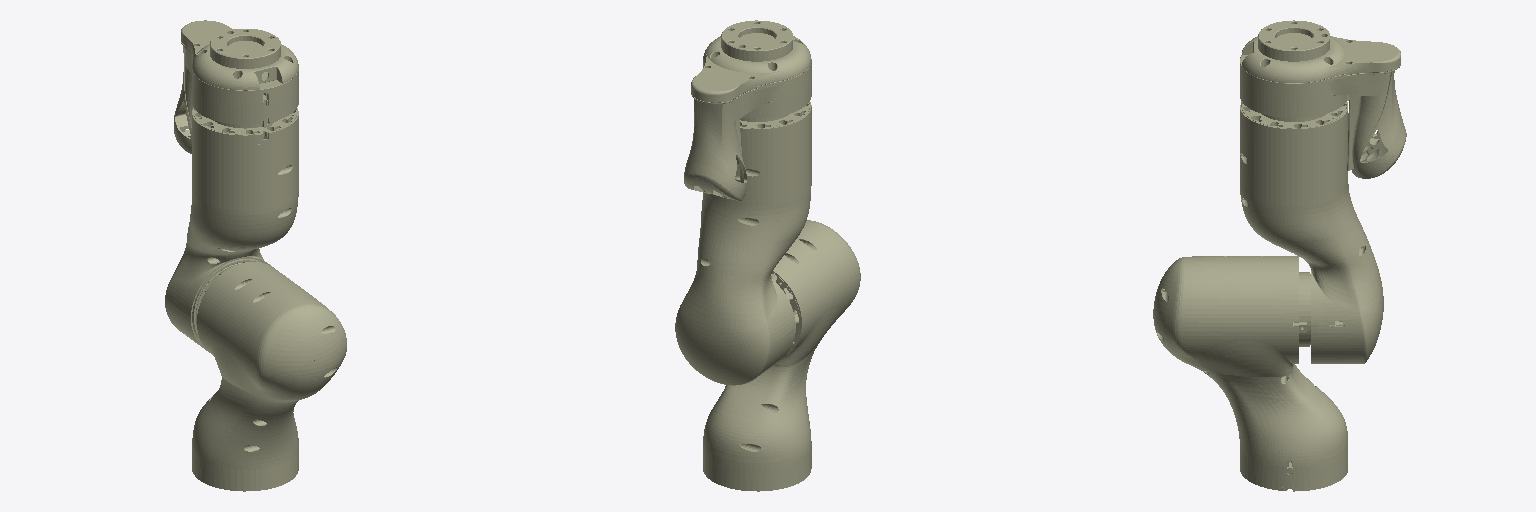
robot.urdf — xmate3:
<?xml version="1.0" ?>
<!-- =================================================================================== -->
<!-- |    This document was autogenerated by xacro from xmate3.xacro                      | -->
<!-- |    EDITING THIS FILE BY HAND IS NOT RECOMMENDED                                 | -->
<!-- =================================================================================== -->
<!-- xmate3 manipulator -->
<!--  Attention!!! inertia in the model is not correct!!! -->
<robot name="xmate3" xmlns:xacro="http://www.ros.org/wiki/xacro">
  <!-- Constants for robot dimensions -->
  <!-- Import all Gazebo-customization elements, including Gazebo colors -->
  <!--xacro:include filename="$(find XB06_description)/urdf/XB06.gazebo" /-->
  <!-- Import Rviz colors -->
  <material name="black">
    <color rgba="0.0 0.0 0.0 1.0"/>
  </material>
  <material name="blue">
    <color rgba="0.0 0.0 0.8 1.0"/>
  </material>
  <material name="green">
    <color rgba="0.0 0.8 0.0 1.0"/>
  </material>
  <material name="grey">
    <color rgba="0.7 0.7 0.6 1.0"/>
  </material>
  <material name="orange">
    <color rgba="1.0 0.423529411765 0.0392156862745 1.0"/>
  </material>
  <material name="brown">
    <color rgba="0.870588235294 0.811764705882 0.764705882353 1.0"/>
  </material>
  <material name="red">
    <color rgba="0.8 0.0 0.0 1.0"/>
  </material>
  <material name="white">
    <color rgba="1.0 1.0 1.0 1.0"/>
  </material>
  <material name="Beige">
    <color rgba="1.0 0.784 0.5765 1.0"/>
  </material>
  <!-- Used for fixing robot to Gazebo 'base_link' -->
  <link name="world"/>
  <joint name="fixed" type="fixed">
    <parent link="world"/>
    <child link="xmate3_base"/>
  </joint>
  <!--base-->
  <link name="xmate3_base">
    <visual>
      <geometry>
        <mesh filename="meshes/visual/xmate3_base.stl" scale="0.001 0.001 0.001"/>
      </geometry>
      <origin rpy="0 0 0" xyz="0 0 0"/>
      <material name="grey"/>
    </visual>
    <inertial>
      <mass value="5.48267"/>
      <inertia ixx="0.056" ixy="0" ixz="0" iyy="0.066" iyz="0" izz="0.035"/>
      <origin rpy="0 0 0" xyz="-0.0183 0 0.067"/>
    </inertial>
    <!-- <collision>
      <geometry>
        <mesh filename="meshes/collision/xmate3_base.stl" scale="0.001 0.001 0.001"/>
      </geometry>
      <origin rpy="0 0 0" xyz="0.0 0.0 0.0"/>
    </collision> -->
  </link>
  <joint name="joint1" type="fixed">
    <parent link="xmate3_base"/>
    <child link="xmate3_link1"/>
    <!-- <limit effort="300" lower="-3.0527" upper="3.0527" velocity="10"/>
    <axis xyz="0 0 1"/> -->
    <origin rpy="0 0 0" xyz="0 0 0"/>
  </joint>
  <transmission name="tran1">
    <type>transmission_interface/SimpleTransmission</type>
    <joint name="joint1">
      <hardwareInterface>EffortJointInterface</hardwareInterface>
    </joint>
    <actuator name="motor1">
      <hardwareInterface>EffortJointInterface</hardwareInterface>
      <mechanicalReduction>1</mechanicalReduction>
    </actuator>
  </transmission>
  <!--link 1-->
  <link name="xmate3_link1">
    <visual>
      <geometry>
        <mesh filename="meshes/visual/xmate3_link1.stl" scale="0.001 0.001 0.001"/>
      </geometry>
      <origin rpy="0 0 0" xyz="0 0 0"/>
      <material name="grey"/>
    </visual>
    <inertial>
      <mass value="3.37289"/>
      <inertia ixx="0.314" ixy="0" ixz="0" iyy="0.310" iyz="0" izz="0.01"/>
      <origin rpy="0 0 0" xyz="0 -0.023 0.295"/>
    </inertial>
    <!-- <collision>
      <geometry>
        <mesh filename="meshes/collision/xmate3_link1.stl" scale="0.001 0.001 0.001"/>
      </geometry>
      <origin rpy="0 0 0" xyz="0 0 0"/>
    </collision> -->
  </link>
  <joint name="joint2" type="fixed">
    <parent link="xmate3_link1"/>
    <child link="xmate3_link2"/>
    <!-- <limit effort="300" lower="-2.0933" upper="2.0933" velocity="10"/>
    <axis xyz="0 1 0"/> -->
    <origin rpy="0 0 0" xyz="0 0 0.34260487"/>
  </joint>
  <transmission name="tran2">
    <type>transmission_interface/SimpleTransmission</type>
    <joint name="joint2">
      <hardwareInterface>EffortJointInterface</hardwareInterface>
    </joint>
    <actuator name="motor2">
      <hardwareInterface>EffortJointInterface</hardwareInterface>
      <mechanicalReduction>1</mechanicalReduction>
    </actuator>
  </transmission>
  <!--link 2-->
  <link name="xmate3_link2">
    <visual>
      <geometry>
        <mesh filename="meshes/visual/xmate3_link2.stl" scale="0.001 0.001 0.001"/>
      </geometry>
      <origin rpy="0 0 0" xyz="0 0 0.0"/>
      <material name="grey"/>
    </visual>
    <inertial>
      <mass value="3.74765"/>
      <inertia ixx="0.074" ixy="0" ixz="0" iyy="0.067" iyz="0" izz="0.014"/>
      <origin rpy="0 0 0" xyz="0 0.032 0.095"/>
    </inertial>
    <!-- <collision>
      <geometry>
        <mesh filename="meshes/collision/xmate3_link2.stl" scale="0.001 0.001 0.001"/>
      </geometry>
      <origin rpy="0 0 0" xyz="0 0 0.0"/>
    </collision> -->
  </link>
  <joint name="joint3" type="revolute">
    <parent link="xmate3_link2"/>
    <child link="xmate3_link3"/>
    <limit effort="300" lower="-3.0527" upper="3.0527" velocity="10"/>
    <axis xyz="0 0 1"/>
    <origin rpy="0 0 0" xyz="0 0 0.23743878"/>
  </joint>
  <transmission name="tran3">
    <type>transmission_interface/SimpleTransmission</type>
    <joint name="joint3">
      <hardwareInterface>EffortJointInterface</hardwareInterface>
    </joint>
    <actuator name="motor3">
      <hardwareInterface>EffortJointInterface</hardwareInterface>
      <mechanicalReduction>1</mechanicalReduction>
    </actuator>
  </transmission>
  <!--${nameofManipulator}_link 3-->
  <link name="xmate3_link3">
    <visual>
      <geometry>
        <mesh filename="meshes/visual/xmate3_link3.stl" scale="0.001 0.001 0.001"/>
      </geometry>
      <origin rpy="0 0 0" xyz="0 0 0.15549959"/>
      <material name="grey"/>
    </visual>
    <inertial>
      <mass value="3.38216"/>
      <inertia ixx="0.028" ixy="0" ixz="0" iyy="0.025" iyz="0" izz="0.01"/>
      <origin rpy="0 0 0" xyz="0 -0.023 -0.048"/>
    </inertial>
    <!-- <collision>
      <geometry>
        <mesh filename="meshes/visual/xmate3_link3.stl" scale="0.001 0.001 0.001"/>
      </geometry>
      <origin rpy="0 0 0" xyz="0 0 0.15549959"/>
    </collision> -->
  </link>
  <joint name="joint4" type="revolute">
    <parent link="xmate3_link3"/>
    <child link="xmate3_link4"/>
   <limit effort="300" lower="-2.0933" upper="2.0933" velocity="10"/>
<!--     lower="-2.79" upper="2.79" -->
    <axis xyz="0 1 0"/>
<!--     <origin rpy="0 0 0" xyz="0.585 0.0 0.035"/> -->
    <origin rpy="0 0 0" xyz="0 0 0.15549959"/>
  </joint>
  <transmission name="tran4">
    <type>transmission_interface/SimpleTransmission</type>
    <joint name="joint4">
      <hardwareInterface>EffortJointInterface</hardwareInterface>
    </joint>
    <actuator name="motor4">
      <hardwareInterface>EffortJointInterface</hardwareInterface>
      <mechanicalReduction>1</mechanicalReduction>
    </actuator>
  </transmission>
  <!--link 4-->
  <link name="xmate3_link4">
    <visual>
      <geometry>
        <mesh filename="meshes/visual/xmate3_link4.stl" scale="0.001 0.001 0.001"/>
      </geometry>
      <origin rpy="0 0 0" xyz="0.0 0.0 0.0"/>
      <material name="grey"/>
    </visual>
    <inertial>
      <mass value="3.21031"/>
      <inertia ixx="0.027" ixy="0" ixz="0" iyy="0.024" iyz="0" izz="0.007"/>
      <origin rpy="0 0 0" xyz="0 0.037 0.075"/>
    </inertial>
    <!-- <collision>
      <geometry>
        <mesh filename="meshes/collision/xmate3_link4.stl" scale="0.001 0.001 0.001"/>
      </geometry>
      <origin rpy="0 0 0" xyz="0.0 0.0 0.0"/>
    </collision> -->
  </link>
  <joint name="joint5" type="fixed">
    <parent link="xmate3_link4"/>
    <child link="xmate3_link5"/>
    <!-- <limit effort="300" lower="-3.0527" upper="3.0527" velocity="10"/> -->
    <!-- <axis xyz="0 0 1"/> -->
    <origin rpy="0 0 0" xyz="0 0 0.22044633"/>
  </joint>
  <transmission name="tran5">
    <type>transmission_interface/SimpleTransmission</type>
    <joint name="joint5">
      <hardwareInterface>EffortJointInterface</hardwareInterface>
    </joint>
    <actuator name="motor5">
      <hardwareInterface>EffortJointInterface</hardwareInterface>
      <mechanicalReduction>1</mechanicalReduction>
    </actuator>
  </transmission>
  <!--link 5-->
  <link name="xmate3_link5">
    <visual>
      <geometry>
        <mesh filename="meshes/visual/xmate3_link5.stl" scale="0.001 0.001 0.001"/>
      </geometry>
      <origin rpy="0 0 0" xyz="0 0 0.14512568"/>
      <material name="grey"/>
    </visual>
    <inertial>
      <mass value="1.7"/>
      <inertia ixx="0.022" ixy="0" ixz="0" iyy="0.018" iyz="0" izz="0.0076"/>
      <origin rpy="0 0 0" xyz="0 -0.025 -0.052"/>
    </inertial>
    <!-- <collision>
      <geometry>
        <mesh filename="meshes/collision/xmate3_link5.stl" scale="0.001 0.001 0.001"/>
      </geometry>
      <origin rpy="0 0 0" xyz="0 0 0.14512568"/>
    </collision> -->
  </link>
  <joint name="joint6" type="revolute">
    <parent link="xmate3_link5"/>
    <child link="xmate3_link6"/>
    <limit effort="300" lower="-2.0933" upper="2.0933" velocity="10"/>
    <axis xyz="0 1 0"/>
    <origin xyz="0 0 0.14512568" rpy="0.0 0.0 0.0" />
  </joint>
  <transmission name="tran6">
    <type>transmission_interface/SimpleTransmission</type>
    <joint name="joint6">
      <hardwareInterface>EffortJointInterface</hardwareInterface>
    </joint>
    <actuator name="motor6">
      <hardwareInterface>EffortJointInterface</hardwareInterface>
      <mechanicalReduction>1</mechanicalReduction>
    </actuator>
  </transmission>
  <!--link 6-->
  <link name="xmate3_link6">
    <visual>
      <geometry>
        <mesh filename="meshes/visual/xmate3_link6.stl" scale="0.001 0.001 0.001"/>
      </geometry>
      <origin rpy="0 0 0" xyz="0.0 0.0 0.0"/>
      <material name="grey"/>
    </visual>
    <inertial>
      <mass value="2.6002"/>
      <inertia ixx="0.016" ixy="-0.000000" ixz="-0.000000" iyy="0.0156" iyz="-0.000000" izz="0.0042"/>
      <origin rpy="0 0 0" xyz="0 0.02 0.073"/>
    </inertial>
    <!-- <collision>
      <geometry>
        <mesh filename="meshes/collision/xmate3_link6.stl" scale="0.001 0.001 0.001"/>
      </geometry>
      <origin rpy="0 0 0" xyz="0.0 0.0 0.0"/>
    </collision> -->
  </link>
  <joint name="joint7" type="fixed">
    <parent link="xmate3_link6"/>
    <child link="xmate3_link7"/>
    <!-- <limit effort="300" lower="-6.283" upper="2.993" velocity="10"/> -->
    <!-- <axis xyz="0 0 1"/> -->
    <origin xyz="0 0 0.25090877" rpy="0.0 0.0 0.0" />
  </joint>
  <transmission name="tran7">
    <type>transmission_interface/SimpleTransmission</type>
    <joint name="joint7">
      <hardwareInterface>EffortJointInterface</hardwareInterface>
    </joint>
    <actuator name="motor7">
      <hardwareInterface>EffortJointInterface</hardwareInterface>
      <mechanicalReduction>1</mechanicalReduction>
    </actuator>
  </transmission>
<!--link 7-->
  <link name="xmate3_link7">
    <visual>
      <geometry>
        <mesh filename="meshes/visual/xmate3_link7.stl" scale="0.001 0.001 0.001"/>
      </geometry>
      <origin rpy="0 0 0" xyz="0.0 0.0 0"/>
      <material name="grey"/>
    </visual>
    <inertial>
      <mass value="1.50517"/>
      <inertia ixx="0.0037" ixy="0" ixz="0" iyy="0.0021" iyz="0" izz="0.0030"/>
      <origin rpy="0 0 0" xyz="0 0.023 -0.044"/>
    </inertial>
    <!-- <collision>
      <geometry>
        <mesh filename="meshes/collision/xmate3_link7.stl" scale="0.001 0.001 0.001"/>
      </geometry>
      <origin rpy="0 0 0" xyz="0.0 0.0 0"/>
    </collision> -->
  </link>
</robot>

--- Facts derived from the render (not from the file) ---
3 views of the same robot in one strip: view 1: azimuth 30°, elevation 25°; view 2: azimuth 150°, elevation 25°; view 3: azimuth 270°, elevation 25° (orthographic).
Robot: xmate3 — 9 links, 8 joints (3 revolute, 5 fixed); root link world; default pose: every joint at zero.
Visible links, largest first — view 1: xmate3_link5, xmate3_link6, xmate3_link7; view 2: xmate3_link6, xmate3_link5, xmate3_link7; view 3: xmate3_link5, xmate3_link6, xmate3_link7.
Boxes of the visible links, left/top/right/bottom form: xmate3_link5: left=192, top=262, right=346, bottom=491; xmate3_link6: left=165, top=108, right=298, bottom=350; xmate3_link7: left=174, top=20, right=298, bottom=153; xmate3_link6: left=675, top=102, right=811, bottom=385; xmate3_link5: left=703, top=220, right=860, bottom=491; xmate3_link7: left=684, top=20, right=811, bottom=200; xmate3_link5: left=1153, top=256, right=1347, bottom=491; xmate3_link6: left=1240, top=101, right=1383, bottom=363; xmate3_link7: left=1240, top=20, right=1406, bottom=178.
Bounding box of the posed robot: 0.0901 × 0.2101 × 0.3962 m (x, y, z).
Meshes: 8 distinct files referenced, 3 mesh visuals loaded (3 binary STL); not drawn: 5 (reference not matched to a file when rendering).